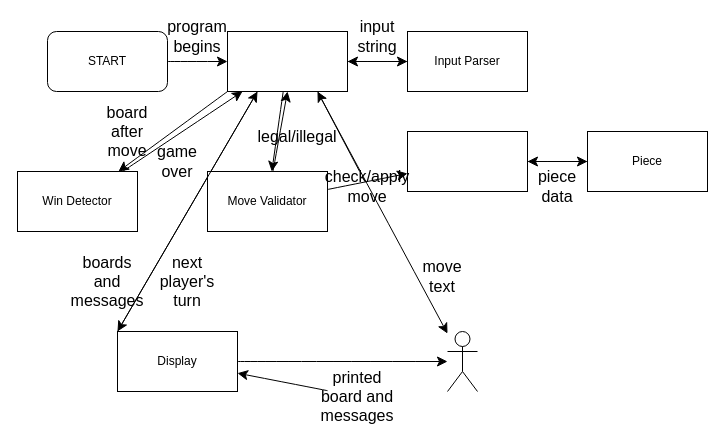
Some shapes in this 725 by 442 pixel diagram are drawn without their labels. The shapes that lost their labels are listed below. From the top down, each one's centre as x and y in pixels, then its label:
pixel 287 61: Main (game loop)
pixel 467 161: Board
pixel 462 361: Player
